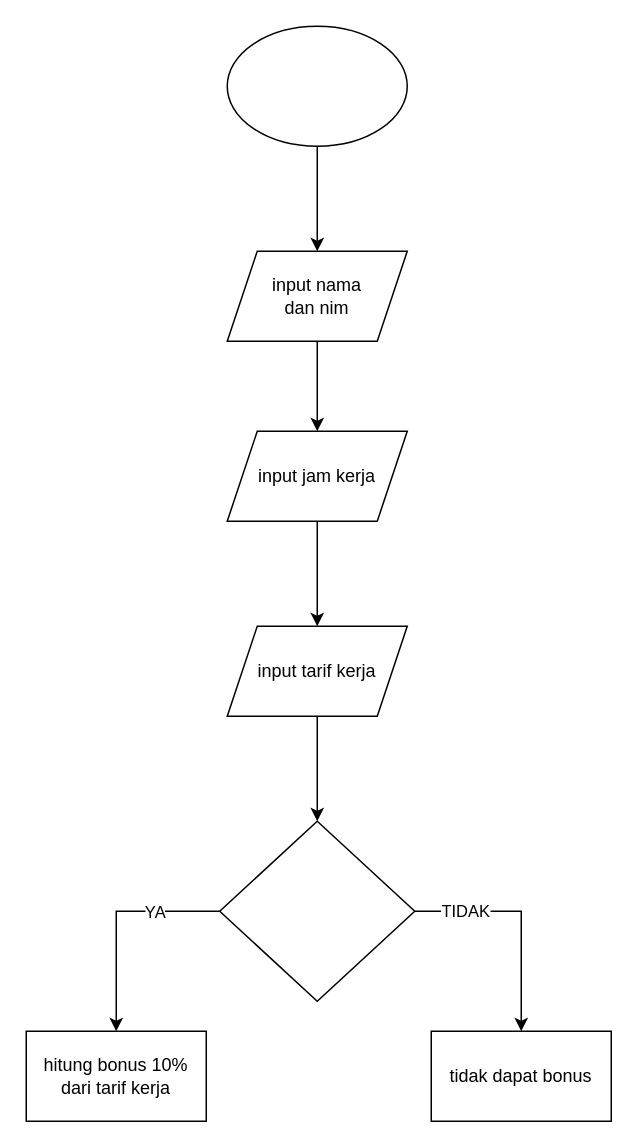
The diagram is 638 pixels wide and 1148 high, and some of its shapes have lost their labels. The centre of each missing label's shape, as x and y in pixels:
"Apakah jam kerja >160 jam?" goes at point 316,910.
"start" goes at point 316,85.
